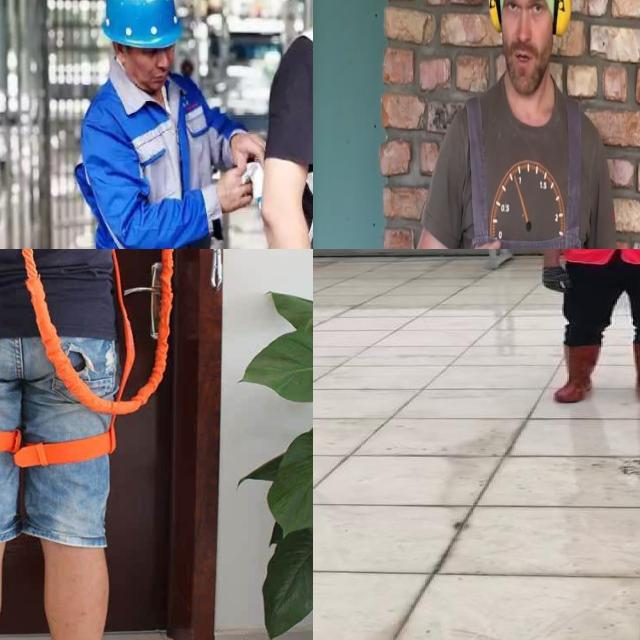Ear-protection: (485, 0, 573, 105)
Harness: (0, 249, 116, 476)
No_Ear-Protection: (105, 10, 189, 106)
No_Glasses: (501, 0, 547, 27)
boots: (554, 342, 600, 404), (631, 343, 640, 405)
person: (524, 249, 640, 402)
